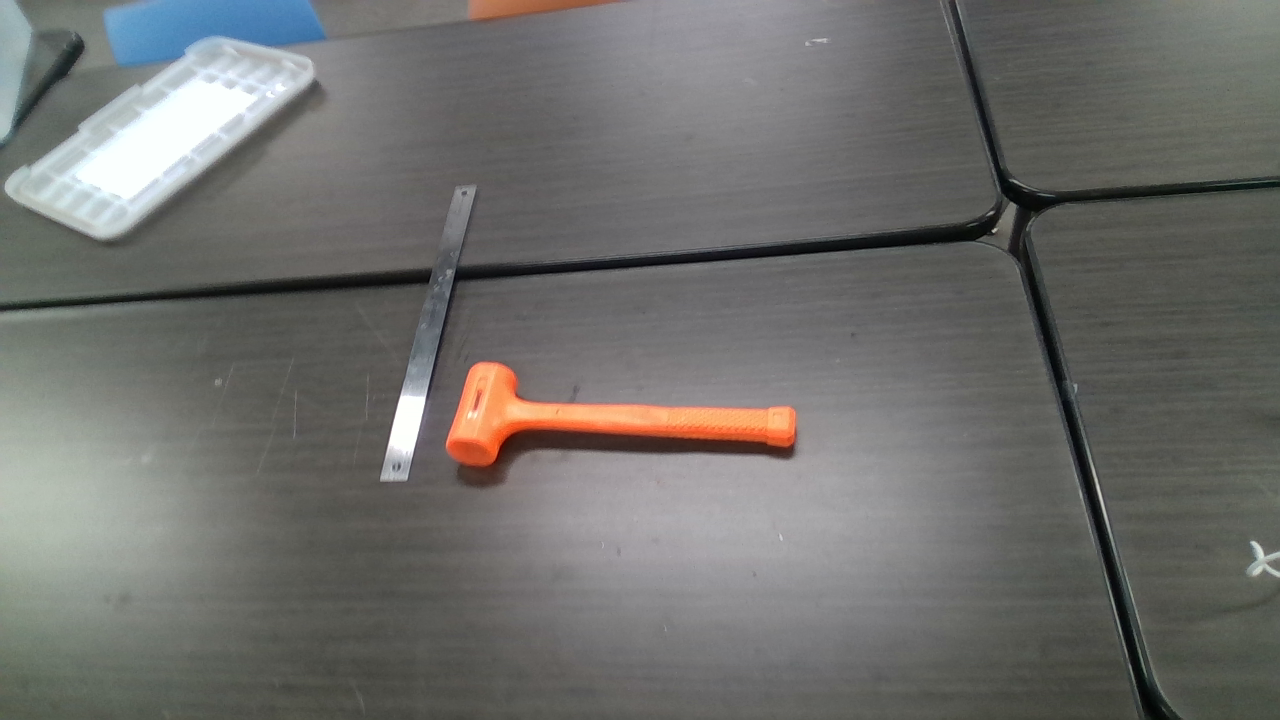Orange Hammer: (449, 362, 798, 467)
